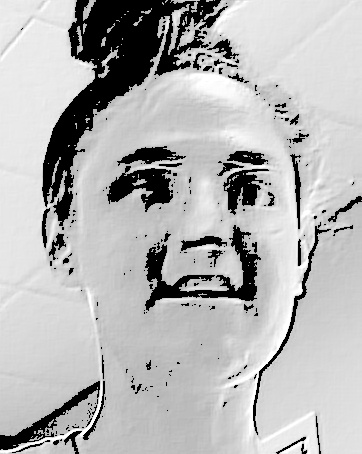nose_M_C: (178, 184, 233, 270)
